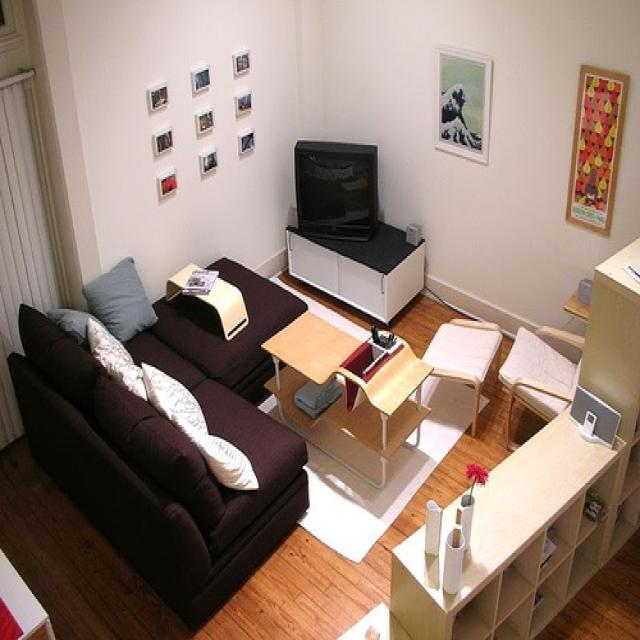chair: (504, 314, 594, 440)
sofa: (5, 252, 314, 624)
tvmonitor: (292, 138, 380, 242)
